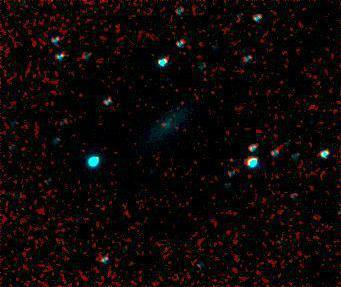star: (215, 147, 245, 177)
